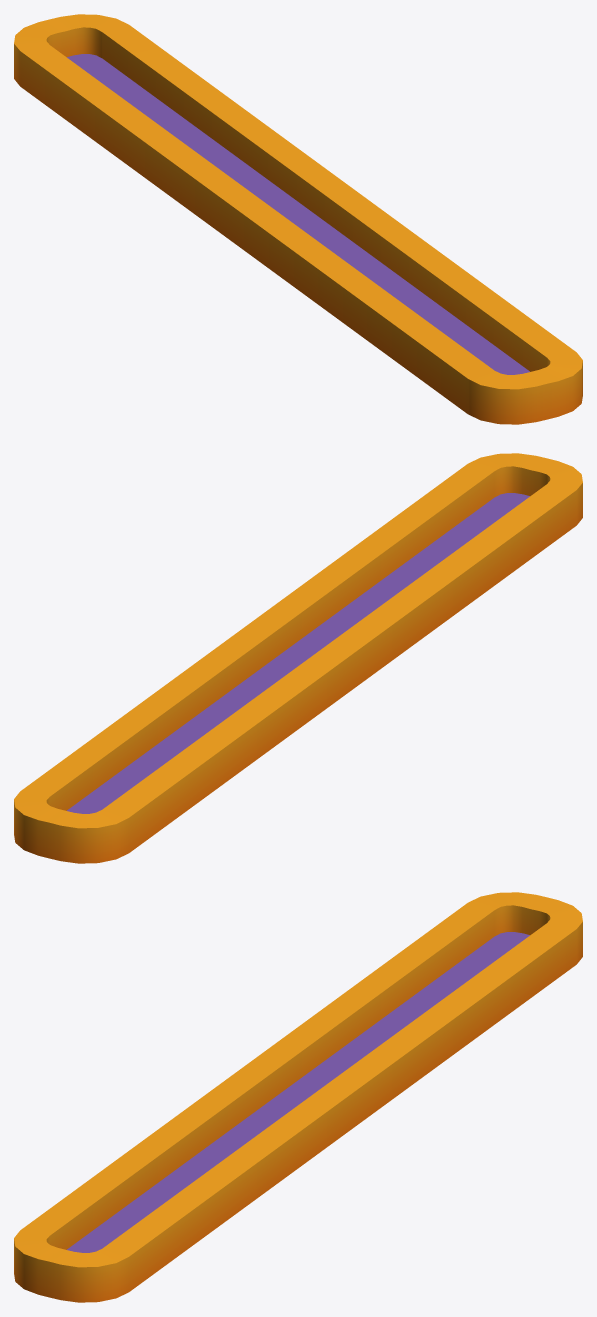
Rendered from Obstacle_Gound_Socket_01.fbx.
3 views of the same model, one above another, from view 1: azimuth 30°, elevation 25°; view 2: azimuth 150°, elevation 25°; view 3: azimuth 330°, elevation 25° (orthographic).
Parts seen in each view (by area): view 1: Obstacle_Gound_Socket_01; view 2: Obstacle_Gound_Socket_01; view 3: Obstacle_Gound_Socket_01.
Boxes of the visible parts, left/top/right/bottom form: Obstacle_Gound_Socket_01: left=14, top=14, right=582, bottom=424; Obstacle_Gound_Socket_01: left=14, top=453, right=582, bottom=863; Obstacle_Gound_Socket_01: left=14, top=892, right=582, bottom=1302.
Size of the model in its own units: 21.98 by 7.07 by 174.
